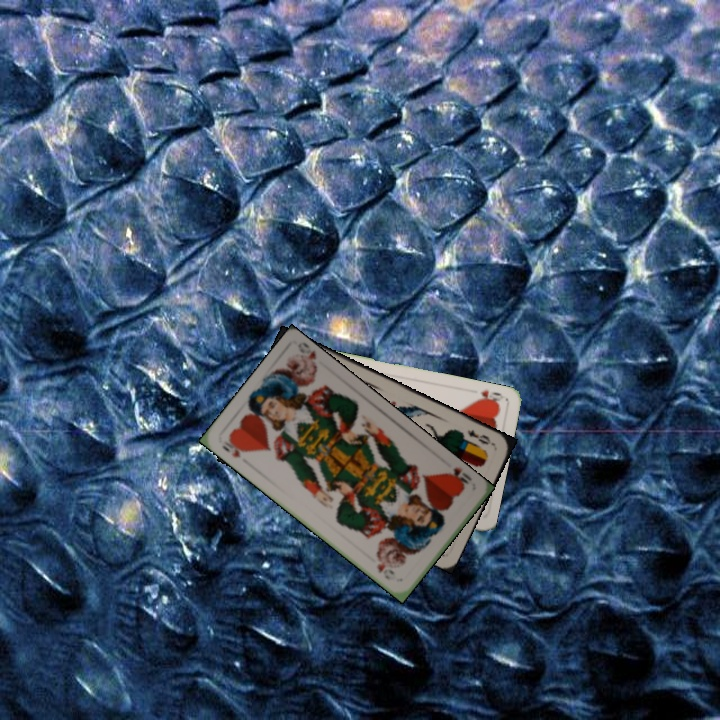EO: (463, 425, 496, 448)
HO: (441, 463, 474, 491), (218, 436, 249, 461), (471, 386, 505, 408)
